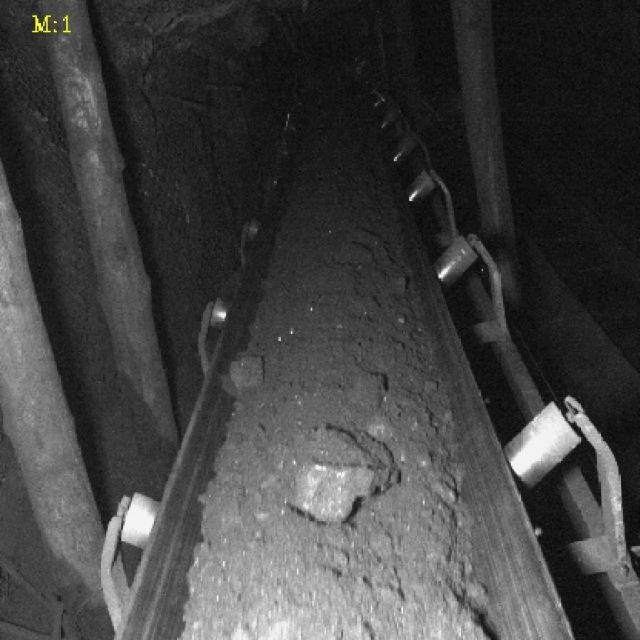large_sized_coal: (290, 434, 396, 518)
